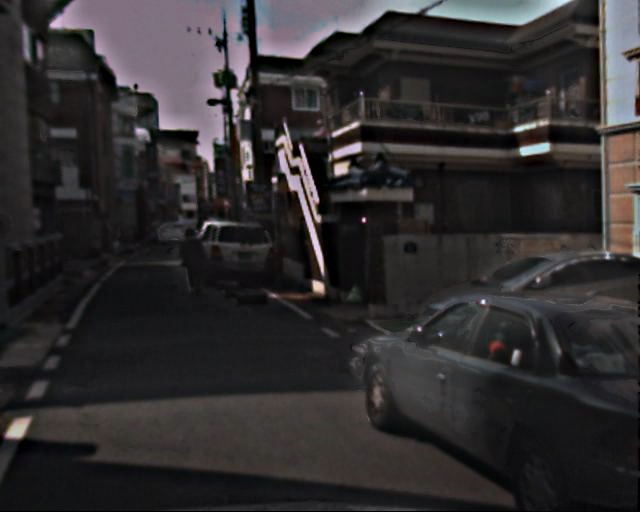person: (174, 226, 204, 300)
